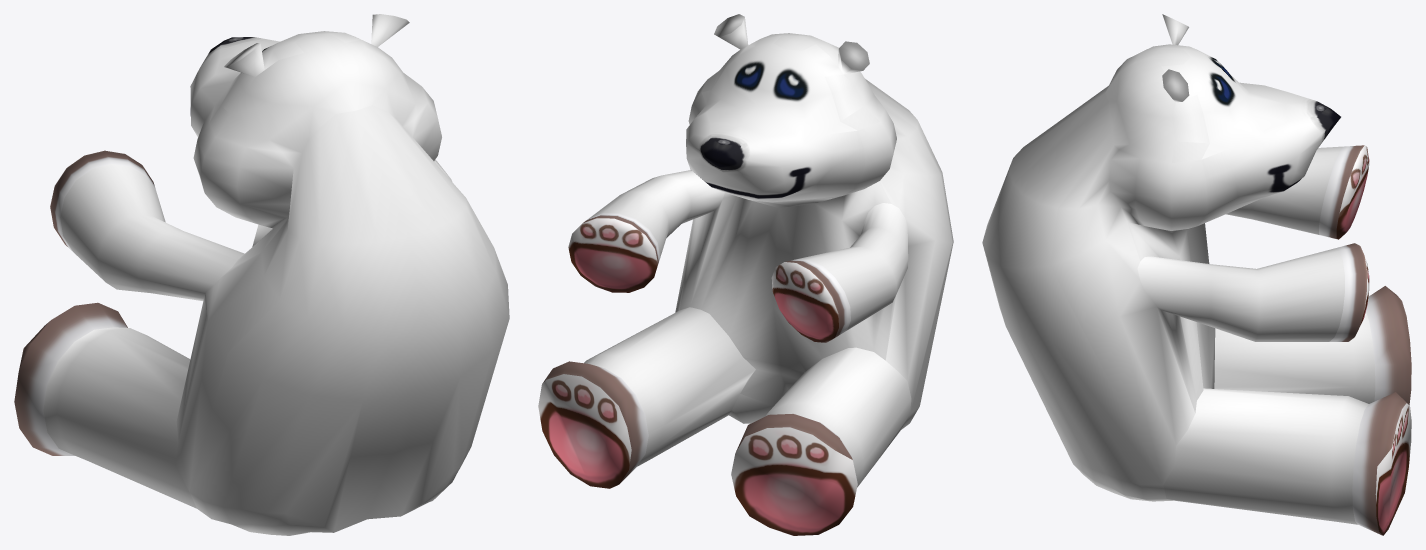
Rendered from polar.fbx.
3 renders of one model, left to right at view 1: azimuth 30°, elevation 25°; view 2: azimuth 150°, elevation 25°; view 3: azimuth 270°, elevation 25°, orthographic. The views are drawn at different scales.
Visible parts, largest first — view 1: Polar; view 2: Polar; view 3: Polar.
Part boxes in pixels (x1,y1,x2,y2): Polar: (14, 14, 509, 535); Polar: (538, 14, 953, 535); Polar: (982, 14, 1411, 535).
Size of the model in its own units: 1.44 by 1.75 by 1.57.
Materials: 1 (1 with a texture image).
